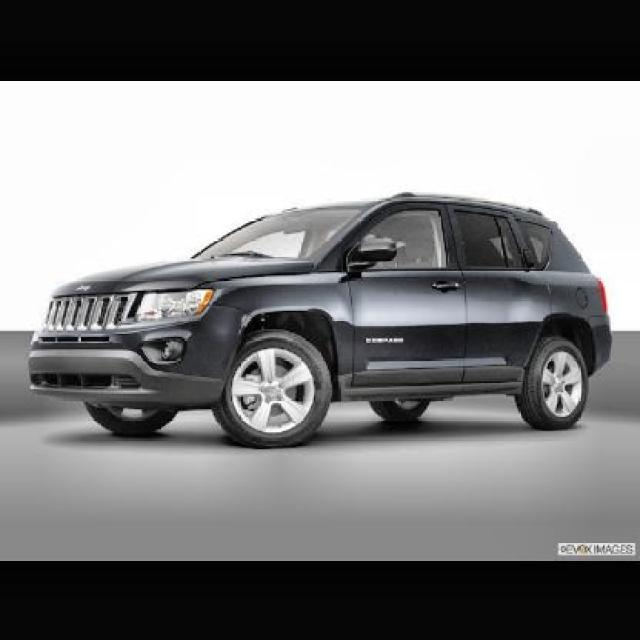black: (23, 190, 621, 434)
